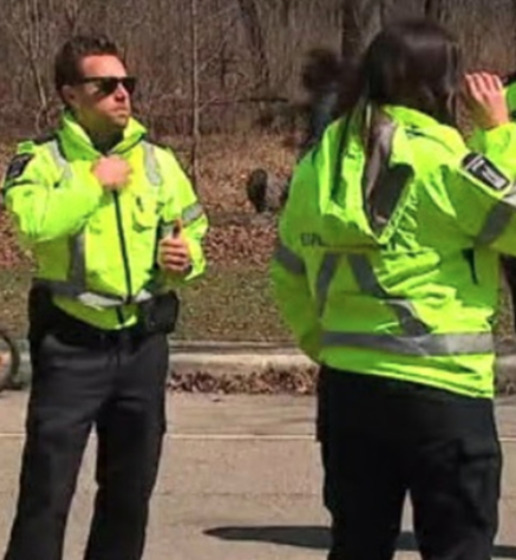Caution: (3, 20, 513, 560)
